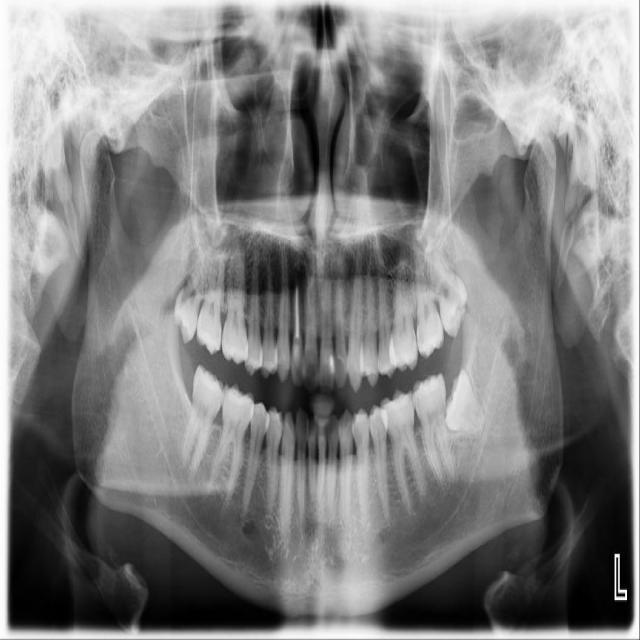3M ESPE Implant: (168, 250, 210, 346)
73: (604, 558, 612, 568)
BioHorizons Implant: (412, 239, 445, 359)
BioLife Implant: (425, 241, 476, 339)
Biomet 3i Implant: (439, 366, 487, 440)
Blue Sky Bio Implant: (410, 371, 457, 489)
Caries: (196, 238, 227, 355)
Implant: (177, 363, 229, 481)
